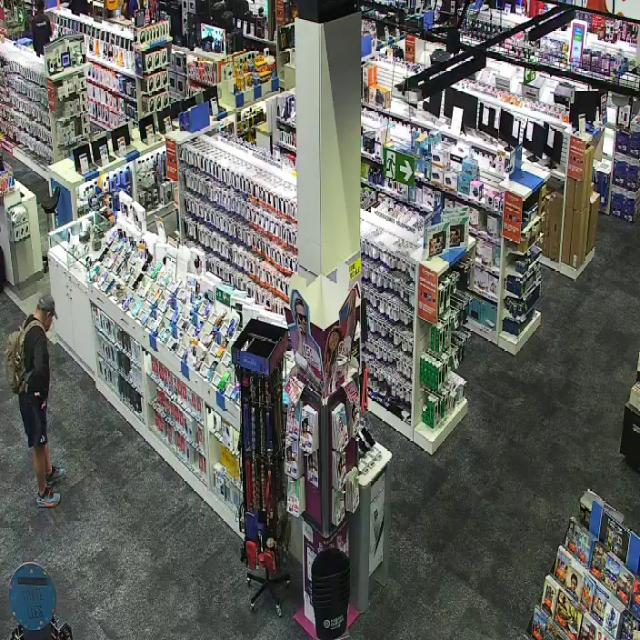bags: (5, 319, 44, 394)
hands: (41, 399, 47, 410)
person: (19, 295, 64, 507)
